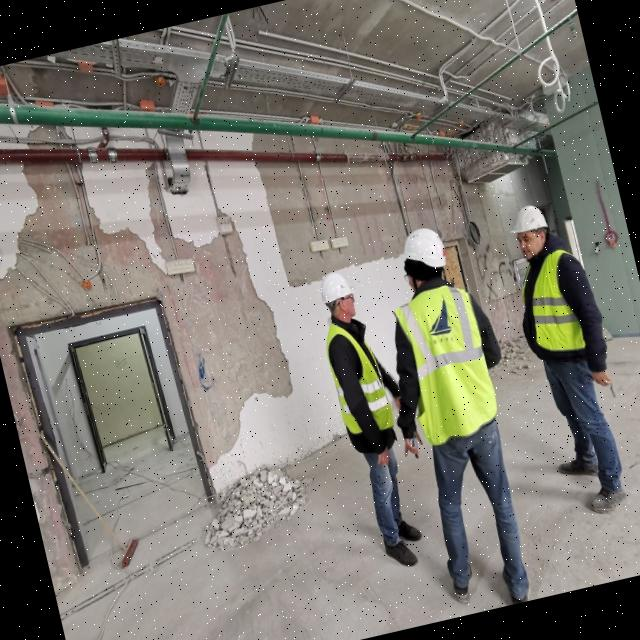Helmet: (395, 224, 453, 278), (318, 271, 358, 308), (507, 204, 549, 238)
Jacket: (394, 281, 503, 447), (321, 324, 392, 444), (515, 247, 590, 352)
